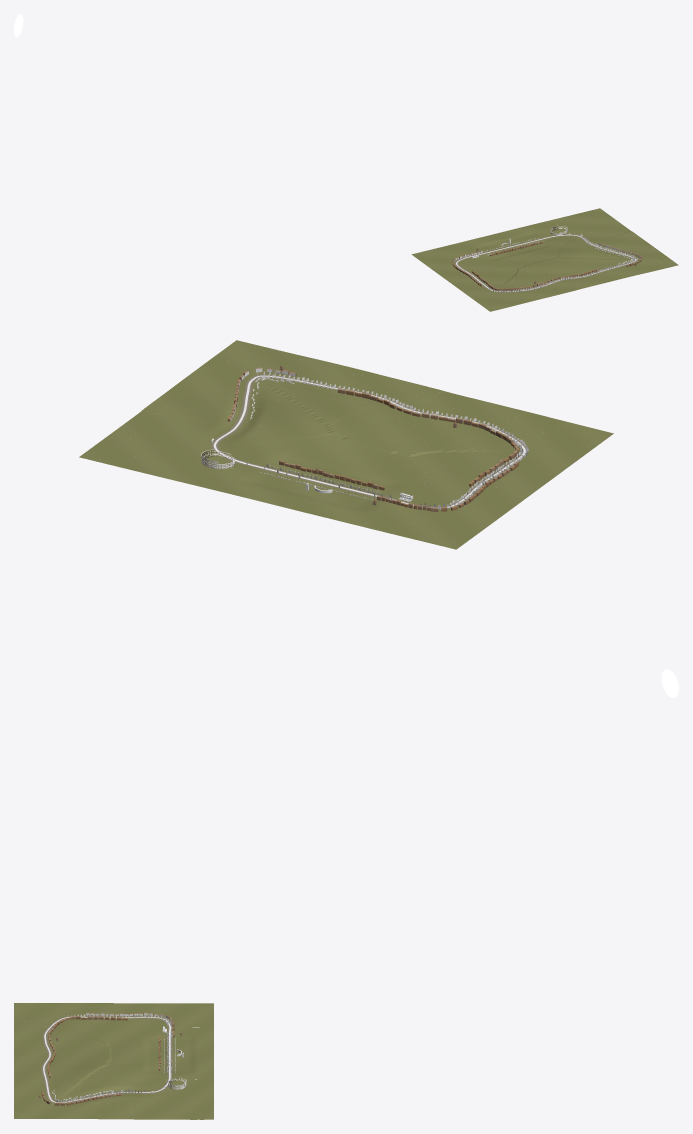
File: rome.glb
3 renders of one model, top to bottom at view 1: azimuth 30°, elevation 25°; view 2: azimuth 150°, elevation 25°; view 3: azimuth 270°, elevation 25°, orthographic. The views are drawn at different scales.
Parts seen in each view (by area): view 1: Land_000, Land_008, Land_001, Land_006, Land_009, Land_007, Land_012, Land_011, Land_013, Land_014, Land_003, Land_004 (+4 smaller); view 2: Land_000, Land_001, Land_006, Land_008, Land_009, Land_007, Land_012, Land_011, Land_014, Land_003, Land_002, Land_013 (+4 smaller); view 3: Land_000, Land_001, Land_006, Land_008, Land_007, Land_009, Land_012, Land_011, Land_003, Land_013, Land_002, Land_014 (+4 smaller).
Part boxes in pixels (box(x1,y1,x2,y2)): Land_000: box(433, 230, 556, 268); Land_008: box(516, 257, 623, 296); Land_001: box(524, 209, 631, 258); Land_006: box(521, 208, 629, 257); Land_009: box(449, 266, 546, 310); Land_007: box(559, 231, 676, 277); Land_012: box(557, 230, 678, 273); Land_011: box(504, 208, 624, 251); Land_013: box(518, 257, 640, 291); Land_014: box(456, 269, 566, 311); Land_003: box(513, 257, 609, 303); Land_004: box(440, 265, 521, 310); Land_000: box(258, 435, 433, 537); Land_001: box(81, 404, 328, 494); Land_006: box(82, 410, 330, 493); Land_008: box(298, 366, 496, 453); Land_009: box(408, 405, 609, 496); Land_007: box(143, 341, 341, 432); Land_012: box(139, 340, 332, 444); Land_011: box(79, 420, 345, 500); Land_014: box(411, 395, 613, 484); Land_003: box(323, 373, 548, 454); Land_002: box(152, 341, 365, 414); Land_013: box(277, 358, 454, 456); Land_000: box(109, 1015, 213, 1069); Land_001: box(85, 1066, 213, 1119); Land_006: box(109, 1059, 213, 1119); Land_008: box(14, 1035, 109, 1085); Land_007: box(14, 1065, 132, 1119); Land_009: box(14, 1003, 128, 1042); Land_012: box(14, 1065, 144, 1119); Land_011: box(123, 1050, 213, 1119); Land_003: box(14, 1022, 109, 1076); Land_013: box(14, 1042, 109, 1095); Land_002: box(14, 1071, 120, 1119); Land_014: box(14, 1003, 106, 1049).
Size of the model in its own units: 5032 by 1878 by 5588.
